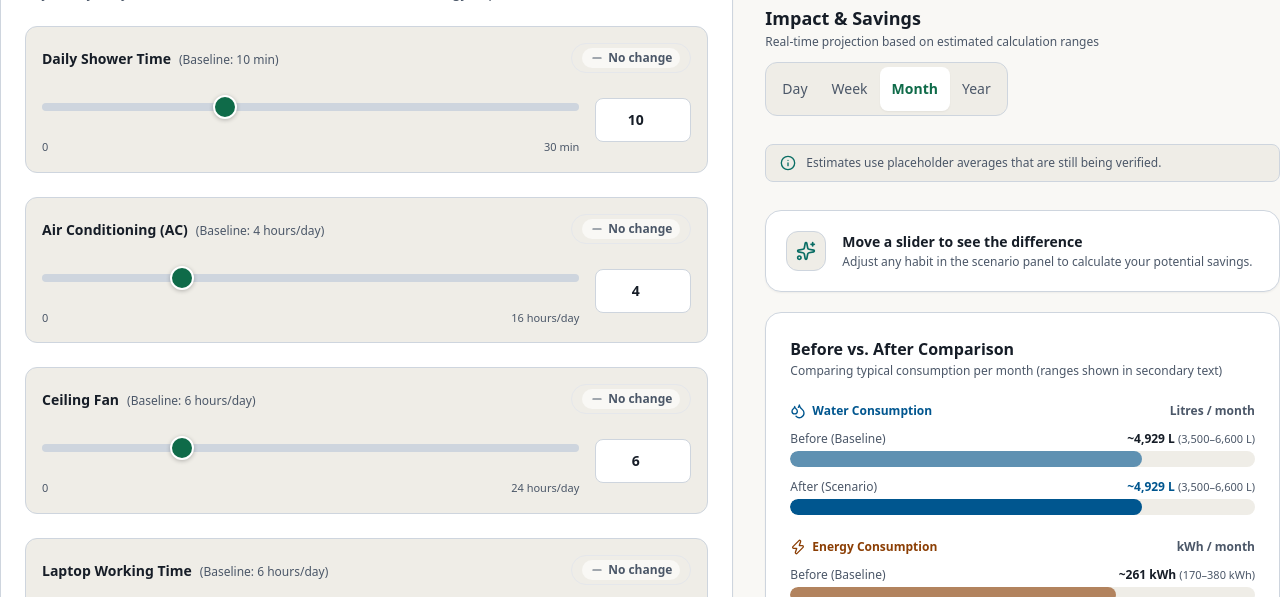
Simulator Component › types '2.5' into a field that held 4 and ends as 2.5
(page scrolled)
Replace the text in the number field named "air conditioning (ac) numeric input" with "2.5" at (643,291), box [595,269,691,313]
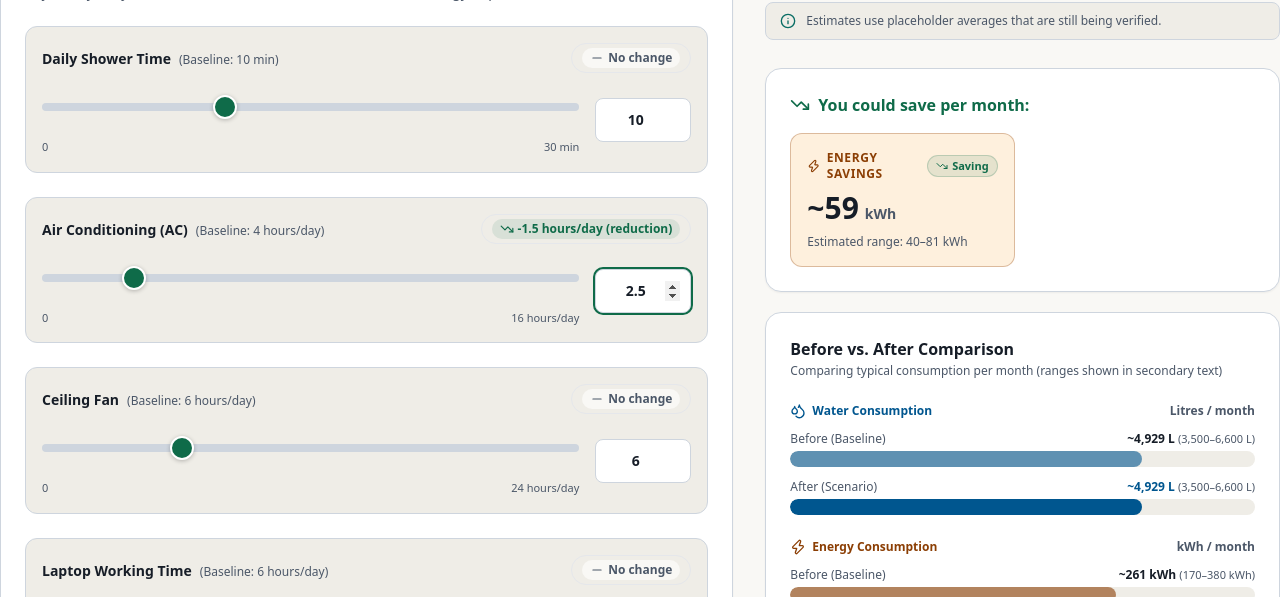
Result: the text "~59" is shown at [807,190,859,226]
